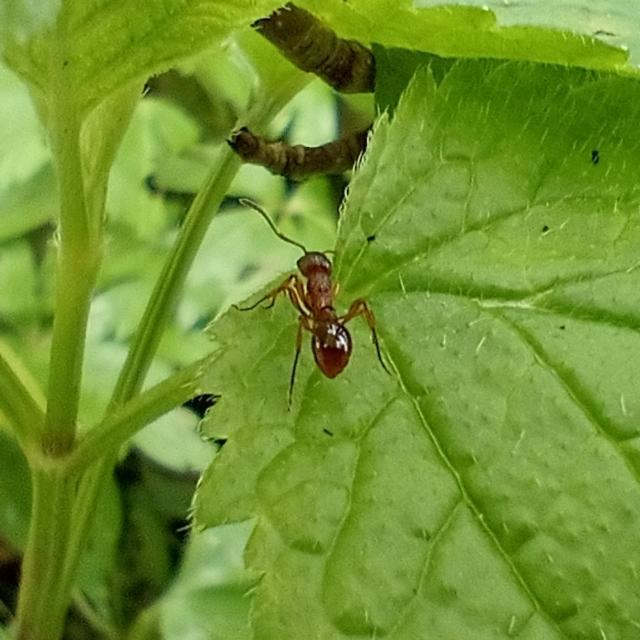Myrmica: (244, 208, 384, 392)
